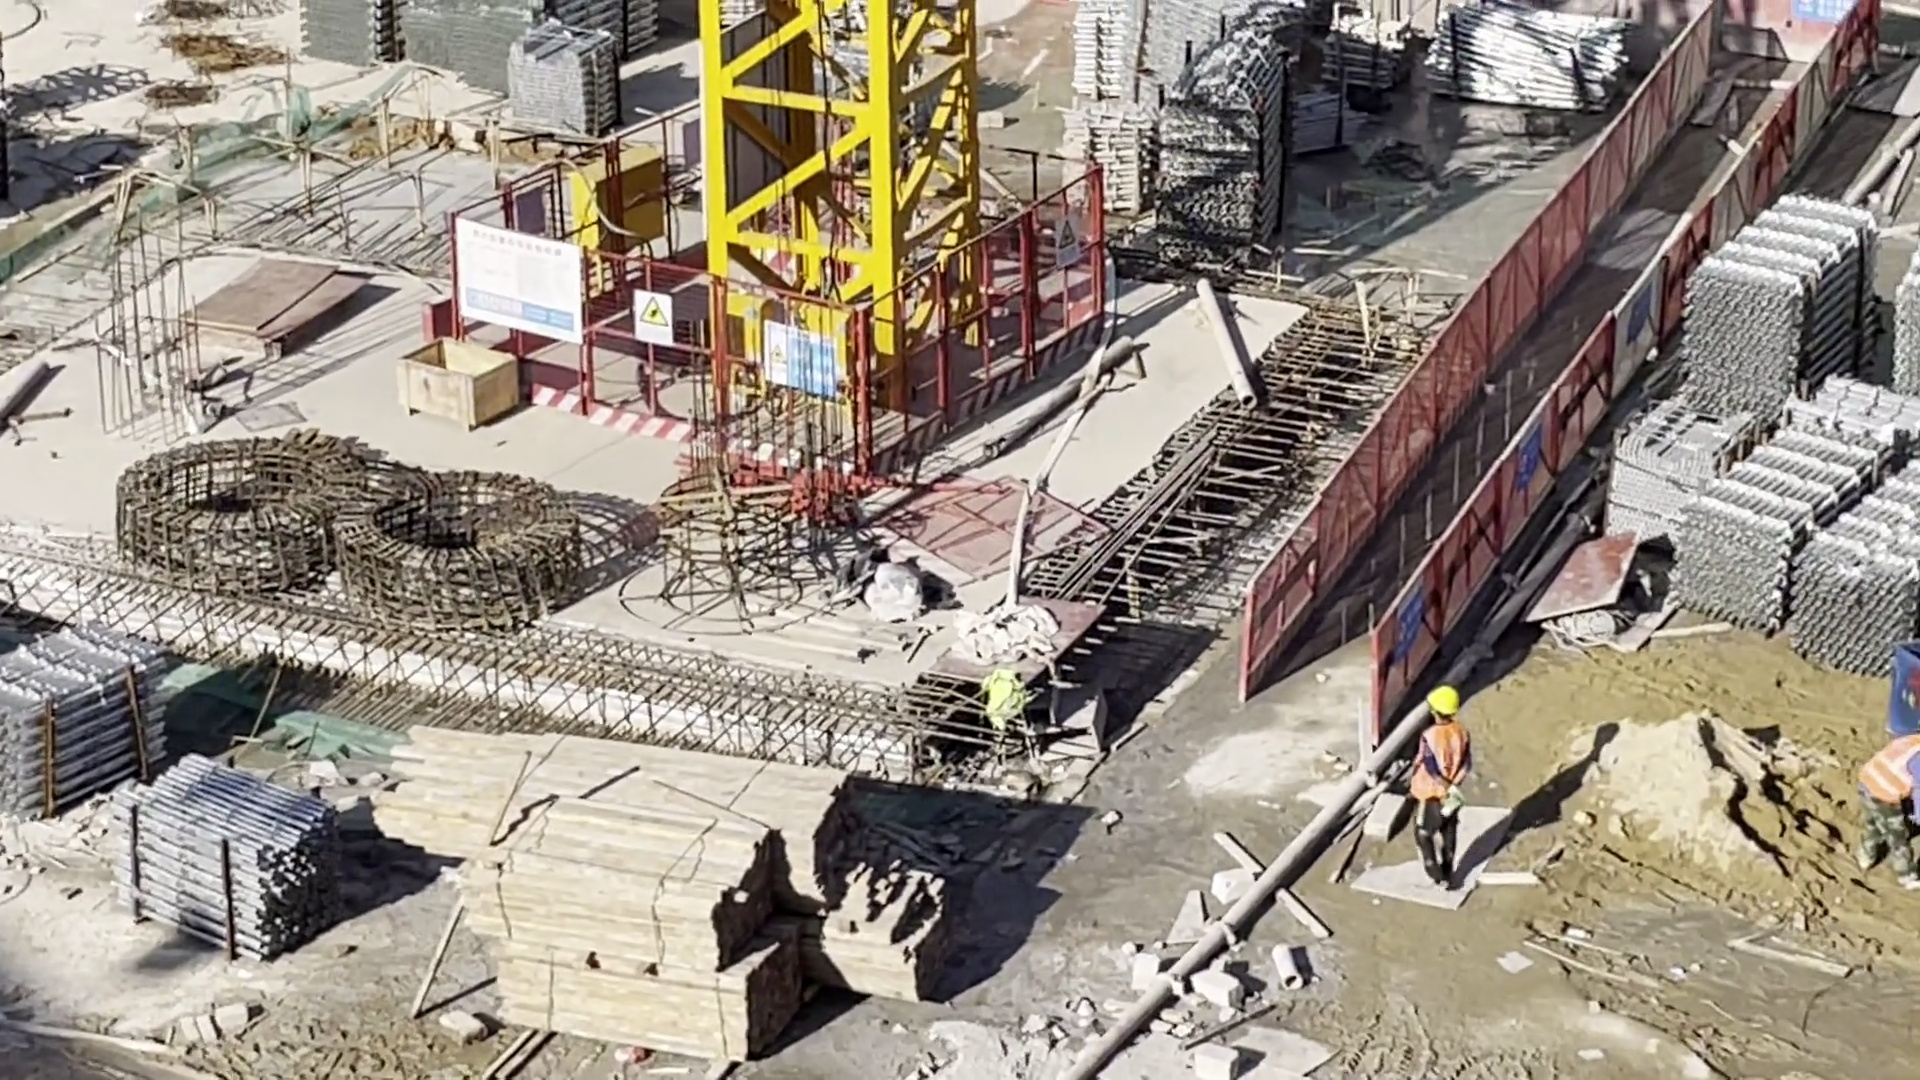board: (186, 258, 351, 360)
ebox: (573, 146, 663, 250)
fence: (1246, 3, 1881, 729)
helmet: (1427, 683, 1461, 718)
person: (1412, 685, 1466, 891), (1856, 726, 1920, 887)
scaffold: (1667, 415, 1889, 638), (120, 765, 336, 956), (1679, 193, 1867, 411), (2, 630, 166, 816), (307, 1, 655, 84), (1788, 458, 1920, 673), (1166, 31, 1283, 238), (1433, 1, 1624, 107), (508, 24, 619, 134), (1055, 103, 1162, 215), (1323, 15, 1411, 87), (1075, 1, 1128, 96)
slogan: (765, 327, 835, 399), (632, 289, 671, 345), (1517, 411, 1544, 492), (1397, 580, 1423, 656), (1054, 216, 1082, 266), (1801, 1, 1858, 24)
vest: (1419, 726, 1459, 800)
wood: (386, 742, 854, 927), (485, 810, 811, 1057)
